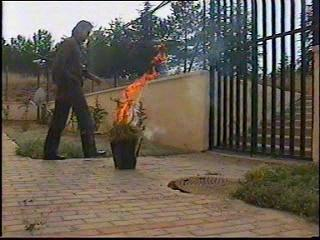fire: (121, 71, 144, 125)
